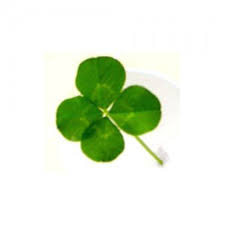4-clover: (55, 56, 160, 162)
